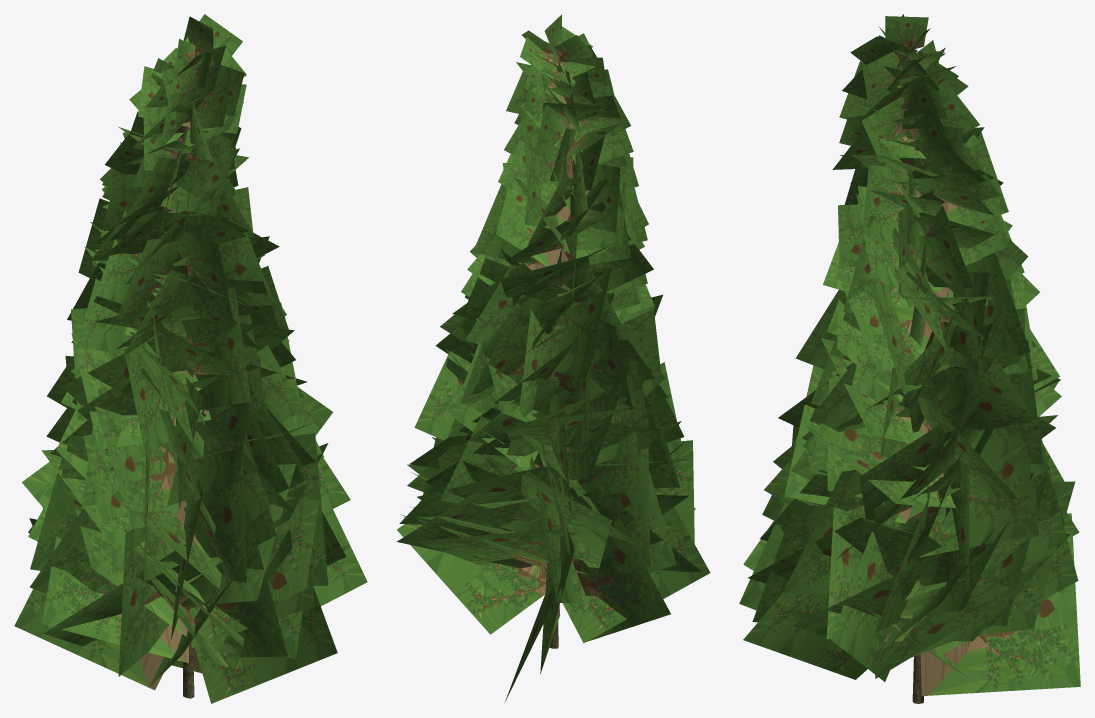
Rendered from o3_abete_stilizzato_2.glb.
3 renders of one model, left to right at view 1: azimuth 30°, elevation 25°; view 2: azimuth 150°, elevation 25°; view 3: azimuth 270°, elevation 25°, orthographic. The views are drawn at different scales.
Parts seen in each view (by area): view 1: sb_modello; view 2: sb_modello; view 3: sb_modello.
Boxes of the visible parts, box(x1,y1,x2,y2) form: sb_modello: box(14, 14, 367, 703); sb_modello: box(396, 14, 710, 701); sb_modello: box(739, 14, 1080, 703).
Bounding box in the file's own units: 2.89 × 6 × 2.69.
Materials: 2 (2 with a texture image).
